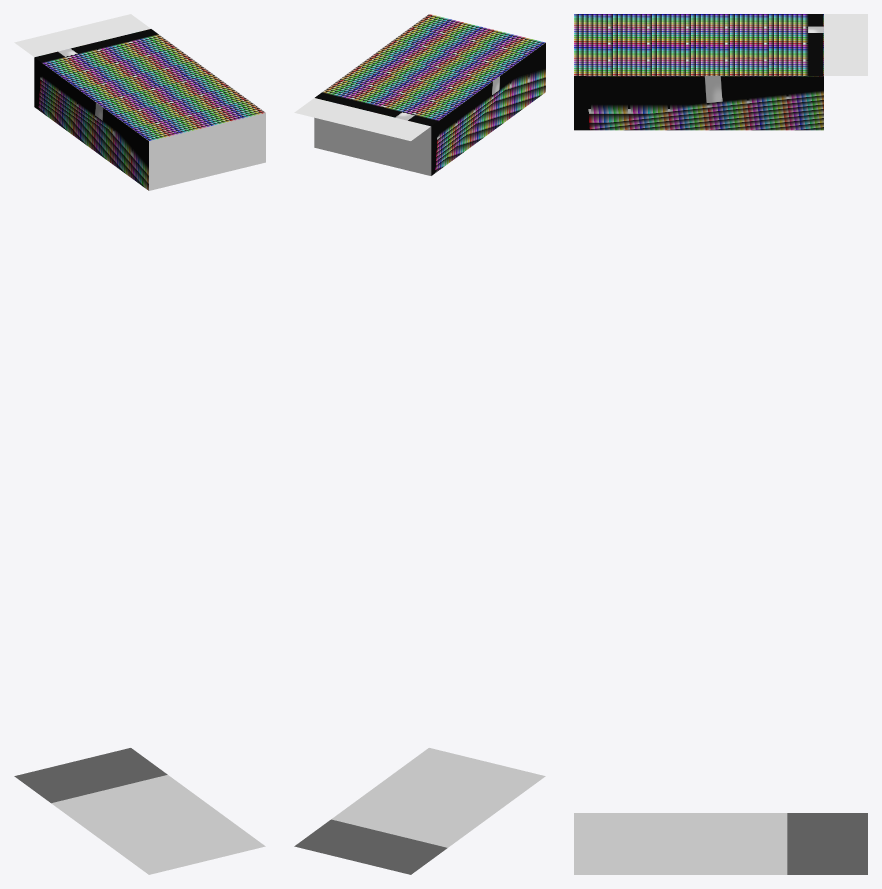
The model's file is ground_line_2_h.fbx.
3 renders of one model, left to right at view 1: azimuth 30°, elevation 25°; view 2: azimuth 150°, elevation 25°; view 3: azimuth 270°, elevation 25°, orthographic. The views are drawn at different scales.
Visible parts, largest first — view 1: shadowsOnly, ground_line_2_h, ceiling_line_2_h; view 2: shadowsOnly, ground_line_2_h, ceiling_line_2_h; view 3: shadowsOnly, ground_line_2_h, ceiling_line_2_h.
Part boxes in pixels (box(x1,y1,x2,y2)): shadowsOnly: box(34, 29, 265, 190); ground_line_2_h: box(14, 748, 265, 874); ceiling_line_2_h: box(14, 14, 150, 57); shadowsOnly: box(314, 14, 545, 175); ground_line_2_h: box(294, 748, 545, 874); ceiling_line_2_h: box(294, 98, 430, 140); shadowsOnly: box(574, 14, 823, 130); ground_line_2_h: box(574, 813, 867, 874); ceiling_line_2_h: box(824, 14, 867, 75).
Size of what is drawn, in the model's own units: 50 by 300 by 100.
